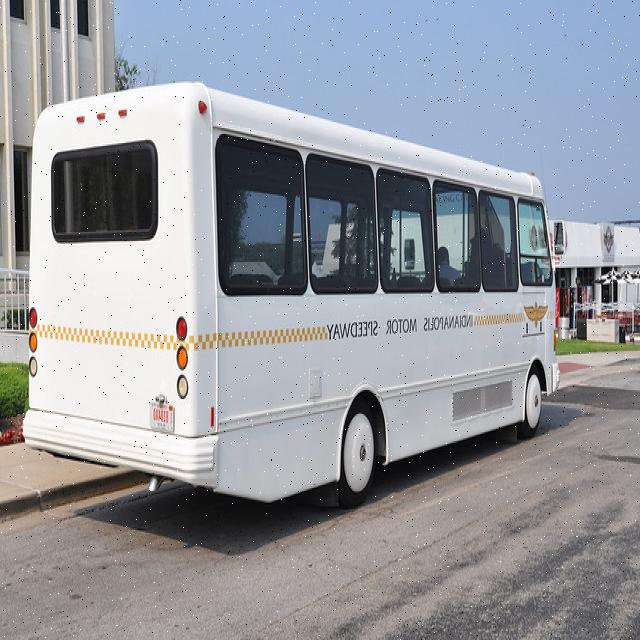Bus: (24, 82, 557, 504), (600, 270, 639, 340)
